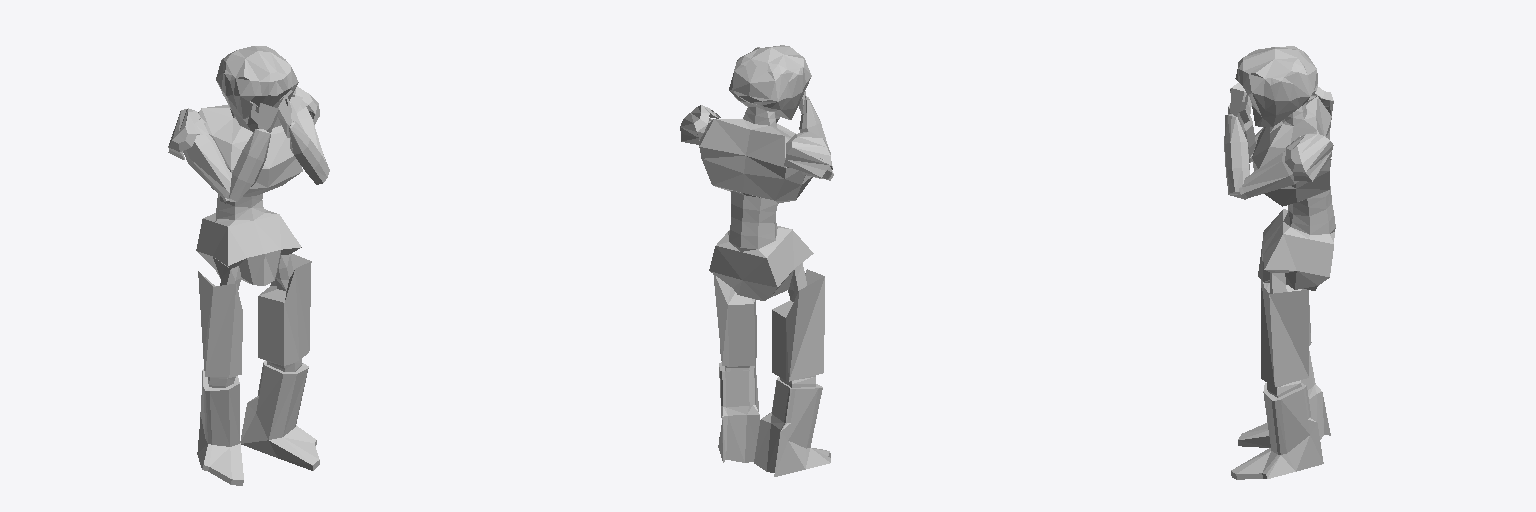
File: Shputnik-Block1.obj
3 views of the same model, side by side, from view 1: azimuth 30°, elevation 25°; view 2: azimuth 150°, elevation 25°; view 3: azimuth 270°, elevation 25° (orthographic).
Visible parts, largest first — view 1: Shputnik_Mesh; view 2: Shputnik_Mesh; view 3: Shputnik_Mesh.
Boxes of the visible parts, <box> form: Shputnik_Mesh: <box>168,46,329,485</box>; Shputnik_Mesh: <box>680,45,833,476</box>; Shputnik_Mesh: <box>1224,46,1335,479</box>.
Bounding box in the file's own units: 4.7 × 12.36 × 3.03.